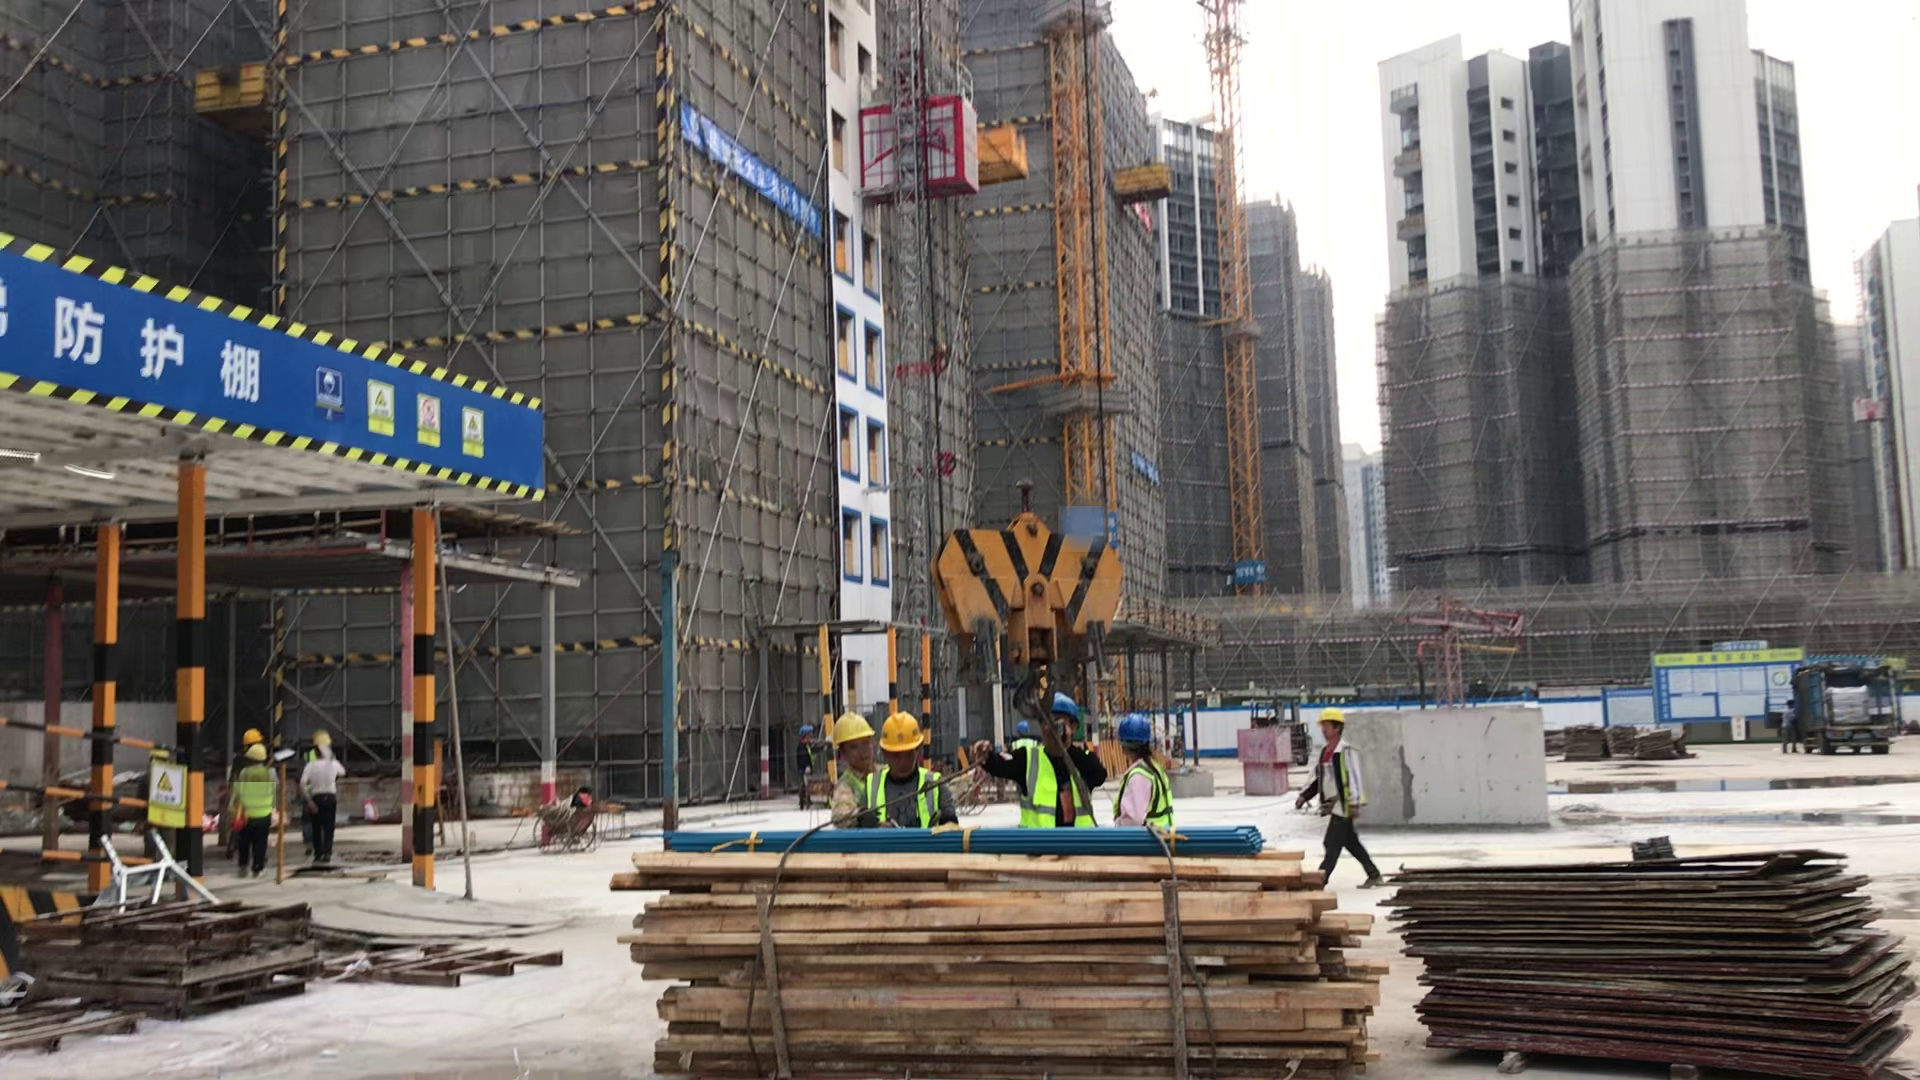board: (1396, 857, 1920, 1077)
handcart: (526, 787, 619, 858), (948, 759, 991, 814), (798, 771, 833, 805)
helmet: (877, 711, 929, 751), (1045, 690, 1082, 726), (1116, 710, 1151, 747), (831, 711, 872, 740), (1313, 706, 1345, 725), (245, 743, 268, 761), (243, 726, 263, 744), (313, 730, 332, 748)
hook: (946, 482, 1117, 707)
person: (988, 689, 1107, 832), (1307, 703, 1384, 887), (873, 712, 954, 832), (1111, 707, 1178, 828), (236, 723, 281, 877), (298, 723, 342, 873), (826, 709, 877, 830), (795, 722, 820, 771), (1781, 697, 1799, 755)
slogan: (674, 100, 827, 248), (298, 355, 488, 472), (144, 755, 185, 825), (1232, 554, 1265, 586)
vest: (1007, 742, 1095, 828), (1114, 758, 1177, 828), (1329, 742, 1367, 820), (843, 769, 889, 828), (910, 768, 941, 831), (239, 767, 274, 818)
wood: (626, 843, 1371, 1072)
